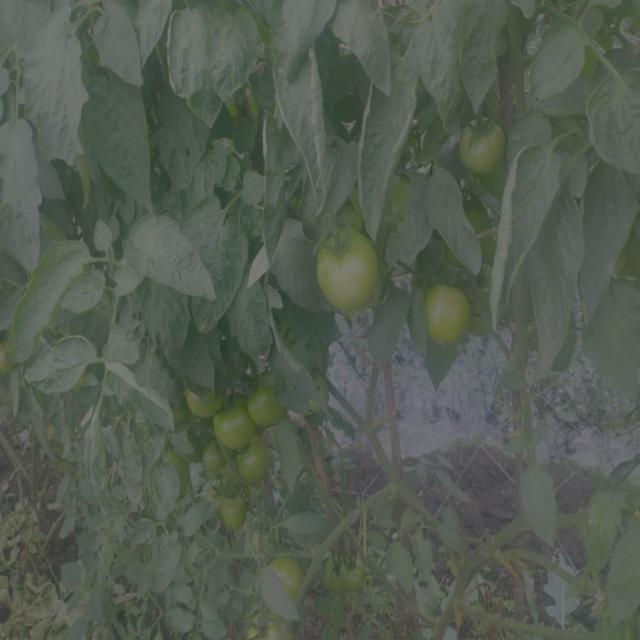tomato: (316, 228, 382, 318), (426, 287, 478, 356), (459, 118, 510, 178), (249, 382, 289, 433), (265, 556, 306, 598), (237, 447, 279, 487), (215, 412, 255, 450), (216, 492, 253, 533), (181, 387, 223, 418), (249, 613, 291, 640), (198, 444, 233, 476), (164, 452, 190, 488), (325, 555, 347, 597), (348, 556, 372, 593)
